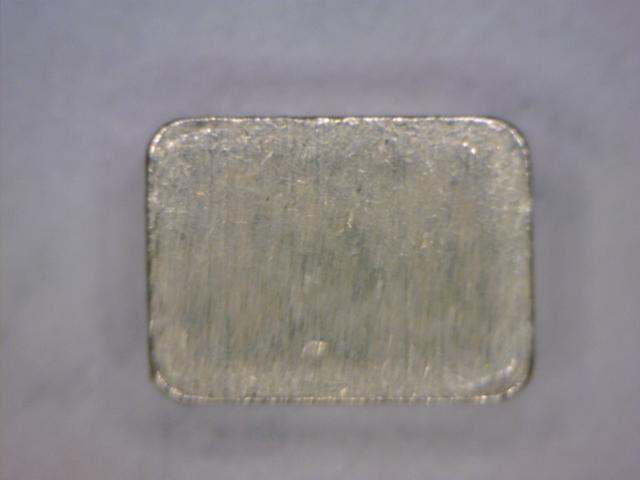ok: (133, 107, 546, 410)
